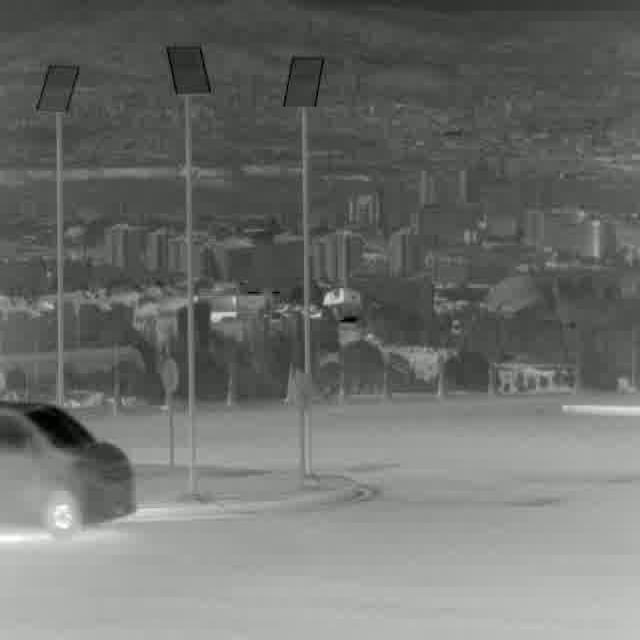Car: (0, 398, 139, 535)
